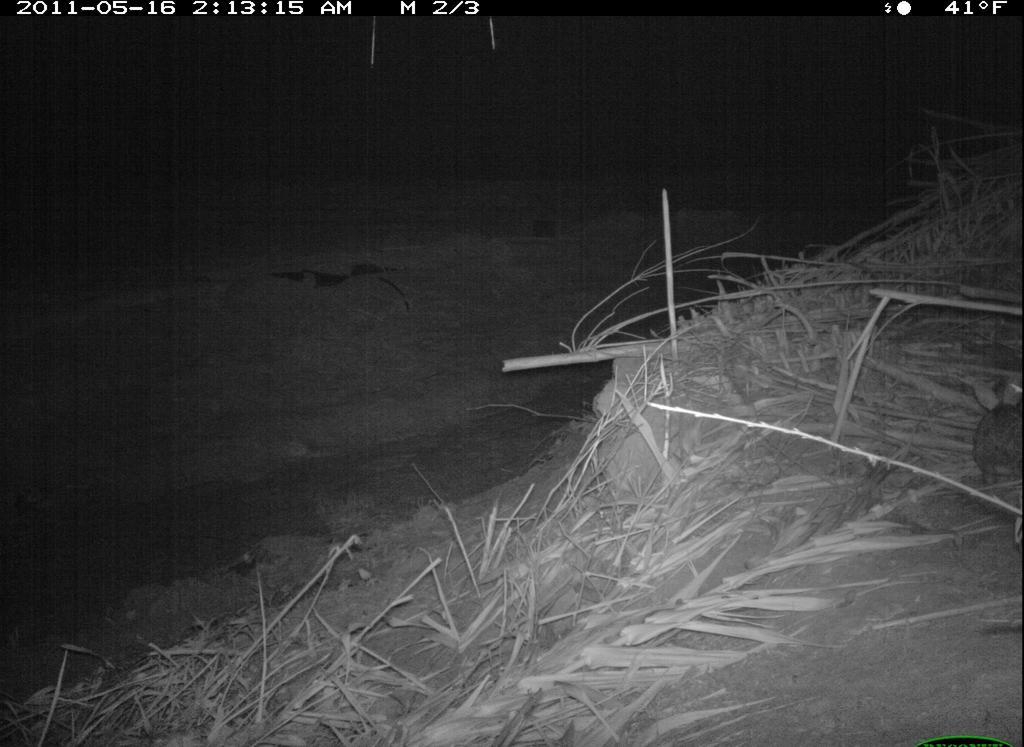rabbit: (958, 369, 1023, 502)
